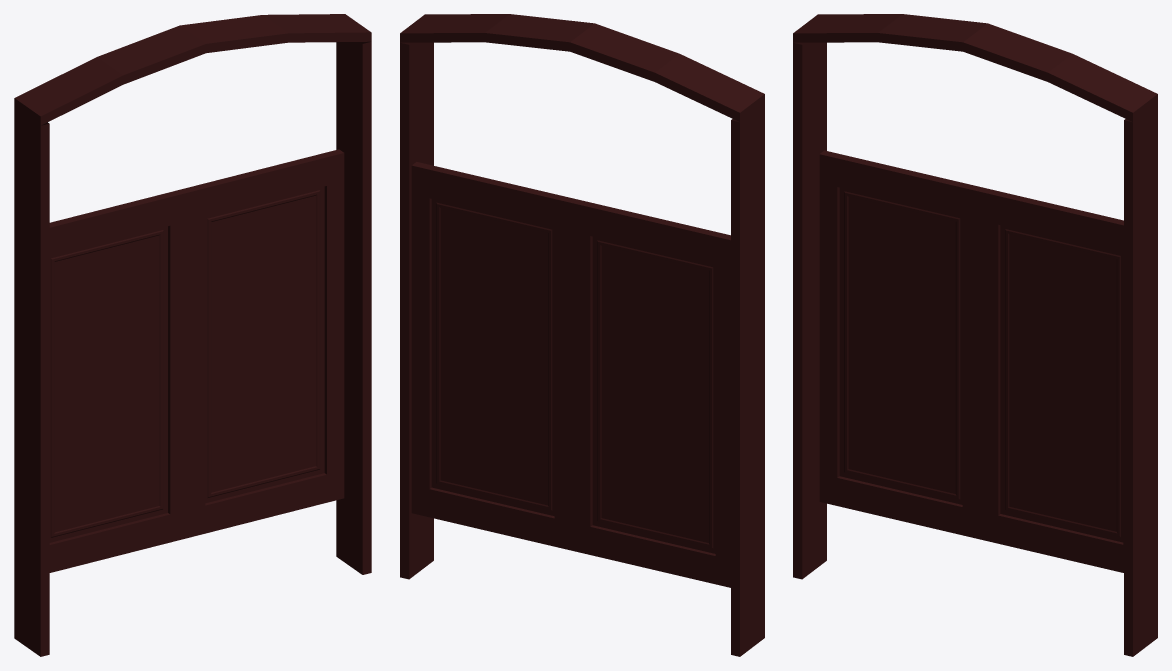
The model's file is Door 1.fbx.
3 views of the same model, side by side, from view 1: azimuth 30°, elevation 25°; view 2: azimuth 150°, elevation 25°; view 3: azimuth 330°, elevation 25° (orthographic).
Visible parts, largest first — view 1: PivotDoor001; view 2: PivotDoor001; view 3: PivotDoor001.
Part boxes in pixels (x1,y1,x2,y2): PivotDoor001: (14, 14, 371, 656); PivotDoor001: (400, 14, 764, 656); PivotDoor001: (793, 14, 1157, 656).
Bounding box in the file's own units: 75.03 × 122 × 11.2.
